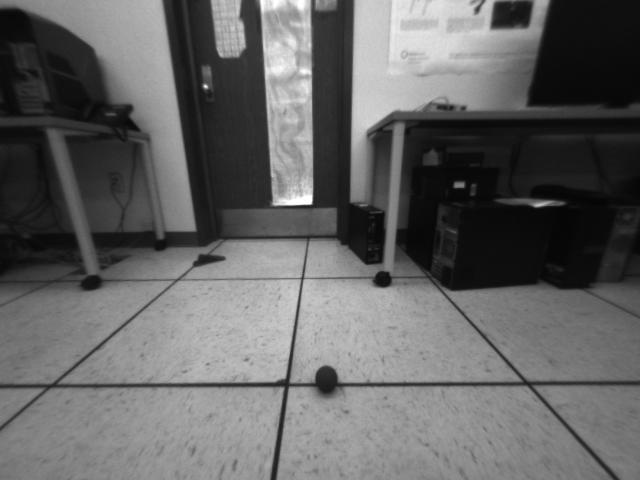dogtoy: (310, 360, 346, 399)
